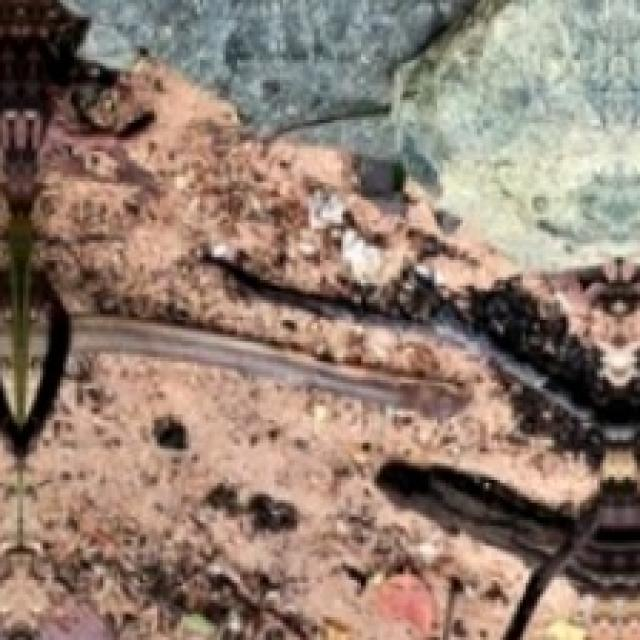king cobra: (0, 6, 637, 637), (446, 80, 560, 160)
